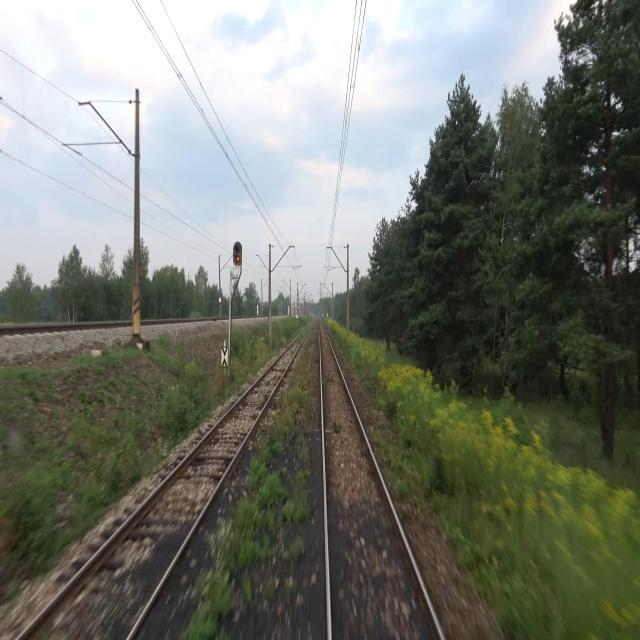rail-track: (20, 332, 305, 639), (320, 321, 439, 639)
